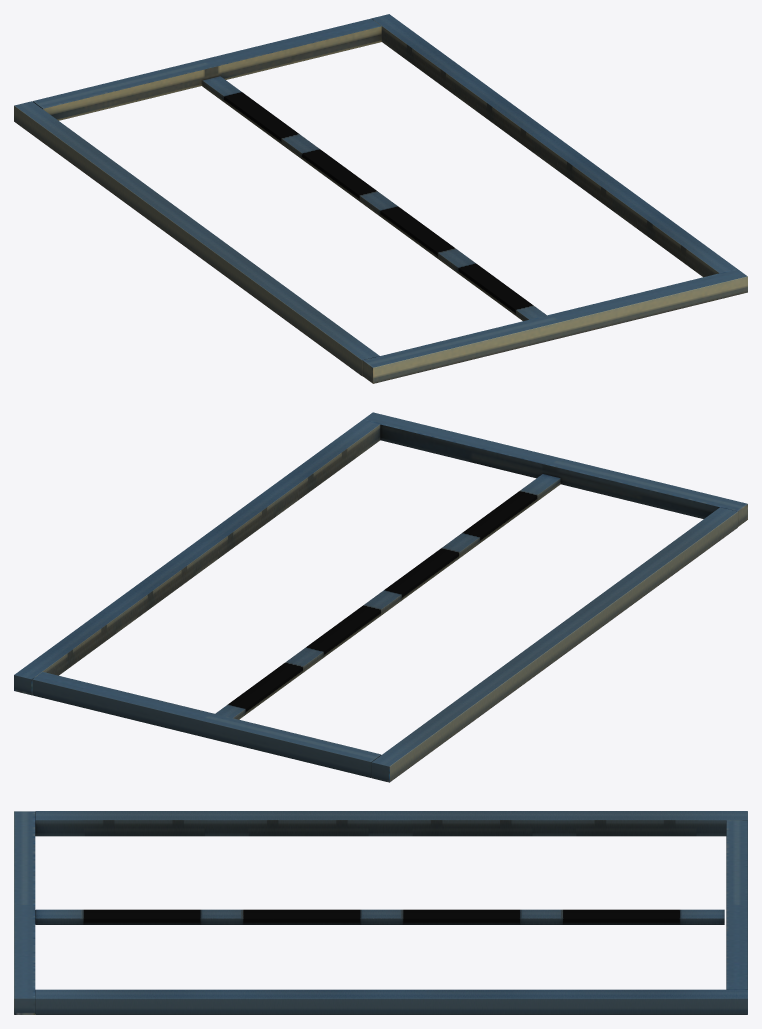
Rendered from Base_Frame.glb.
3 views of the same model, one above another, from view 1: azimuth 30°, elevation 25°; view 2: azimuth 150°, elevation 25°; view 3: azimuth 270°, elevation 25° (orthographic). The views are drawn at different scales.
Visible parts, largest first — view 1: Base_Frame3; view 2: Base_Frame3; view 3: Base_Frame3.
Boxes of the visible parts, x1,y1,x2,y2 form: Base_Frame3: (14, 14, 747, 383); Base_Frame3: (14, 412, 747, 782); Base_Frame3: (14, 811, 747, 1014).
Bounding box in the file's own units: 1.12 × 0.0463 × 1.86.
1 material, 1 textured.
